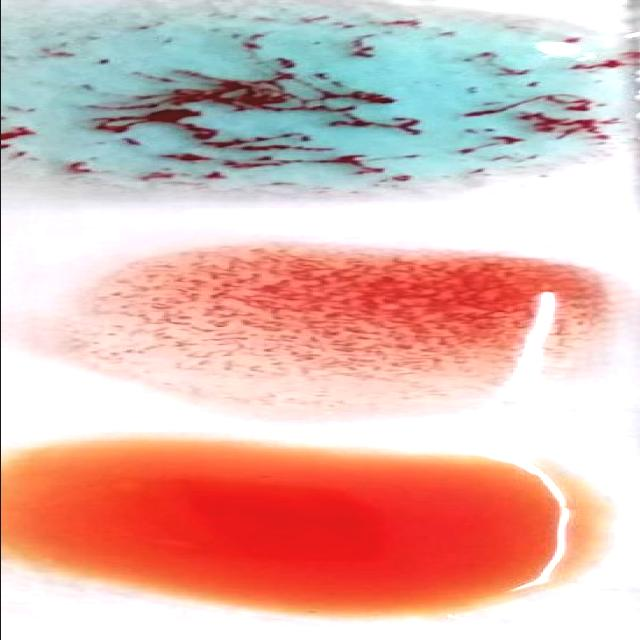A: (0, 6, 640, 189)
D: (54, 251, 608, 408)
